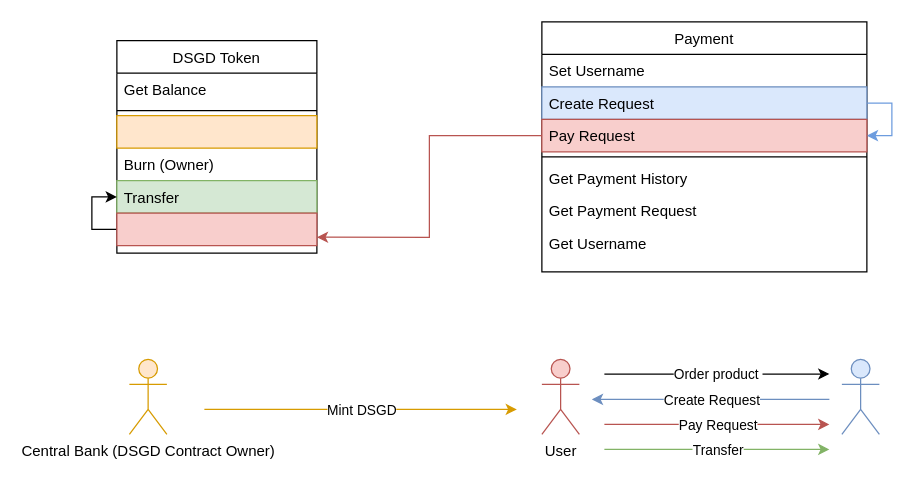
This 924x483 diagram has some shape labels left out. Each missing label, with the centre of its shape:
Approve: point (216, 229)
Merchant: point (860, 396)
Mint (Owner): point (216, 131)
